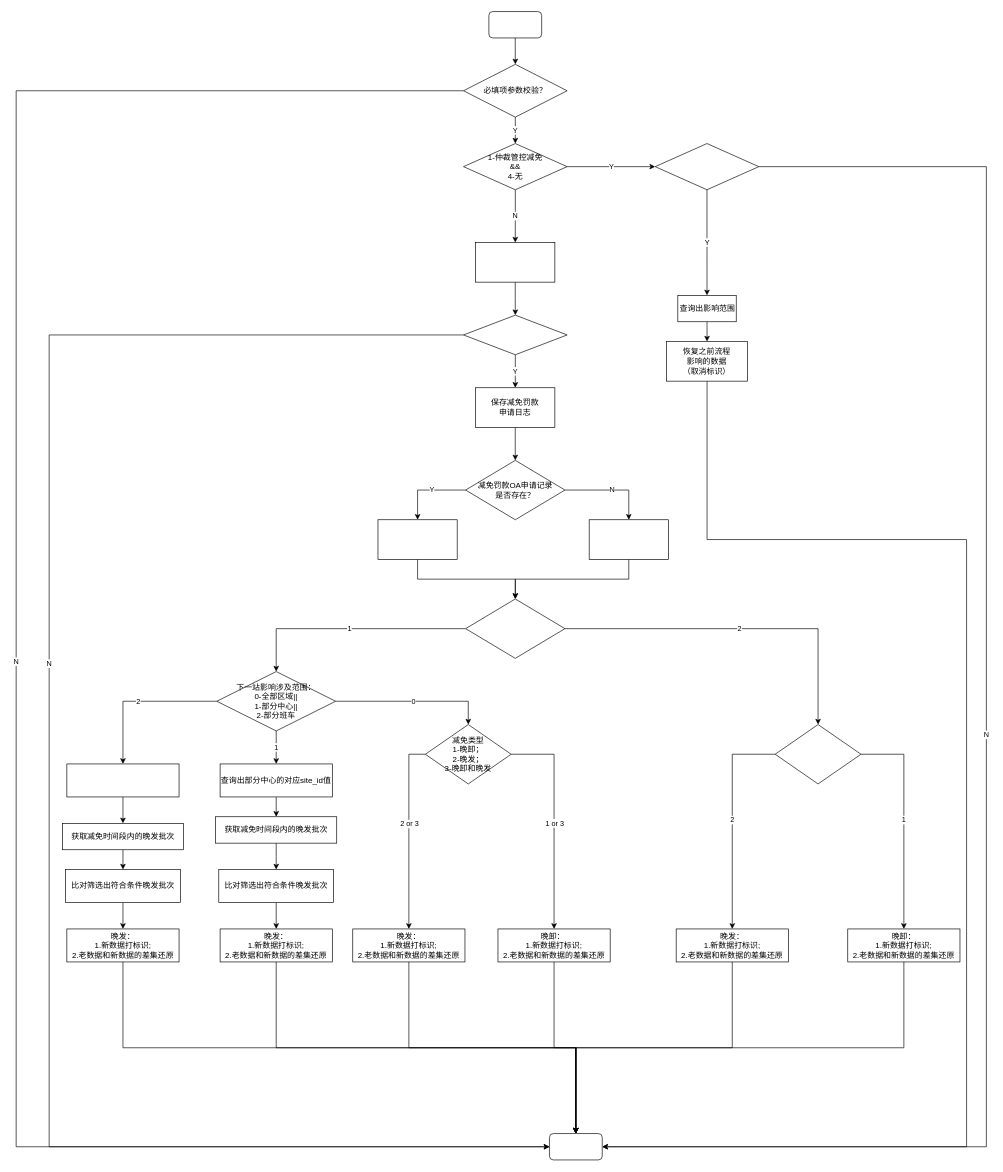
This 1003x1172 diagram has some shape labels left out. The centre of each missing label's shape, as x and y in pixels:
"减免类型 1-晚卸； 2-晚发；" belongs at pixel 818 754.
"开始" belongs at pixel 515 24.
"异常王网点是否存在？" belongs at pixel 515 334.
"新增 减免罚款OA申请记录" belongs at pixel 628 539.
"是否存在当前 流程减免申请？" belongs at pixel 707 166.
"更新 减免罚款OA申请记录" belongs at pixel 417 539.
"查询出部分批次对应的晚发批次" belongs at pixel 122 780.
"查询异常网点信息 （通过网点code）" belongs at pixel 515 262.
"流程类型 1- 仲裁管控减免 2- 班车" belongs at pixel 515 628.
"结束" belongs at pixel 575 1146.
